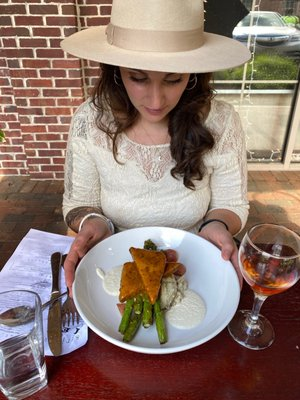pizza: (0, 289, 48, 400)
